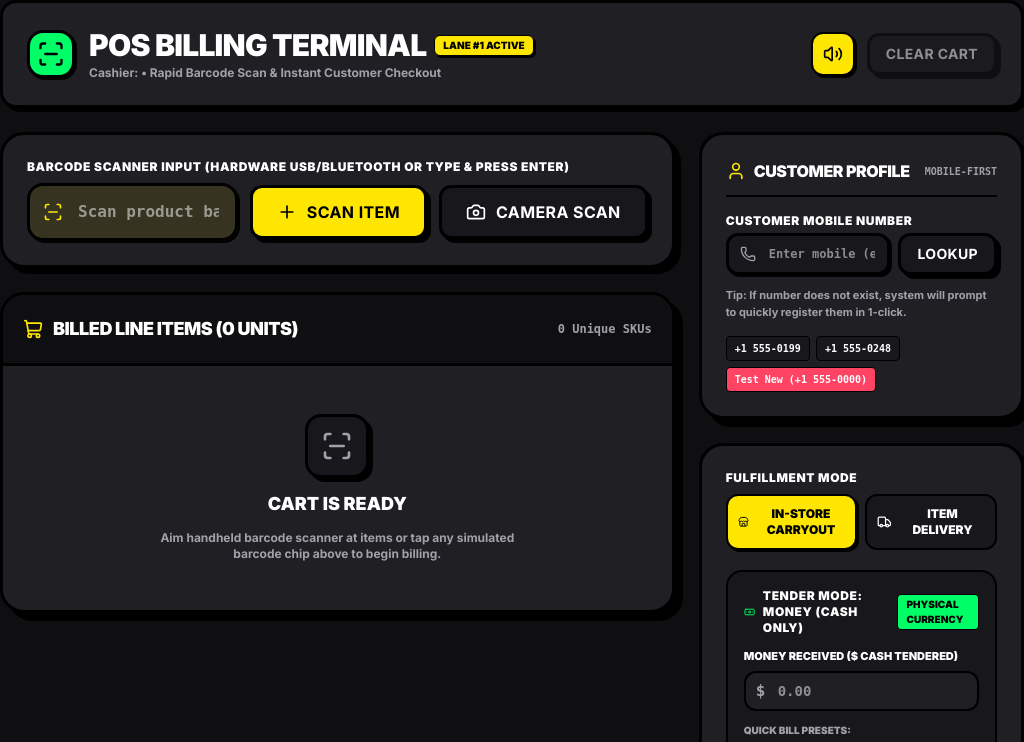
PosBillingPage Component › opens registration modal when mobile number is not found
The image size is (1024, 742).
Type "+1 555-9999" into the field with placeholder "Enter mobile (e.g. +1 555-0199)". click: x=808, y=254
box: [726,233,890,275]
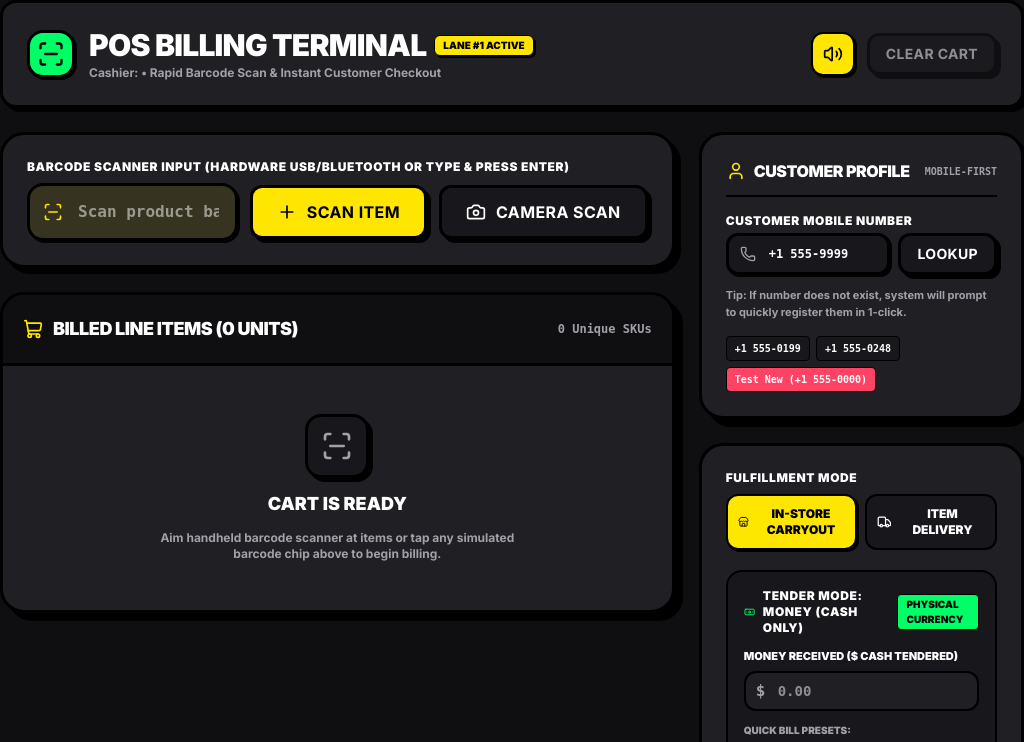
Click the button "Lookup". click: x=948, y=254
box: [898,233,997,275]
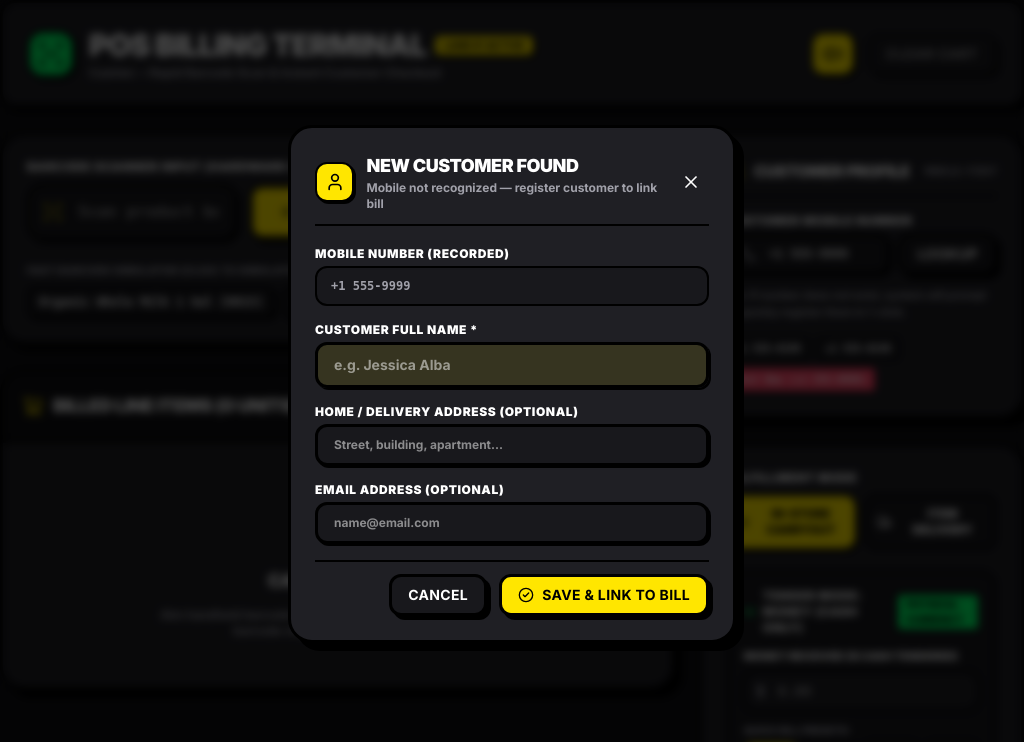
Now the heading "New Customer Found" is shown, box [366,155,578,176]
Now the field with placeholder "e.g. Jessica Alba" is shown, box [315,342,709,388]
